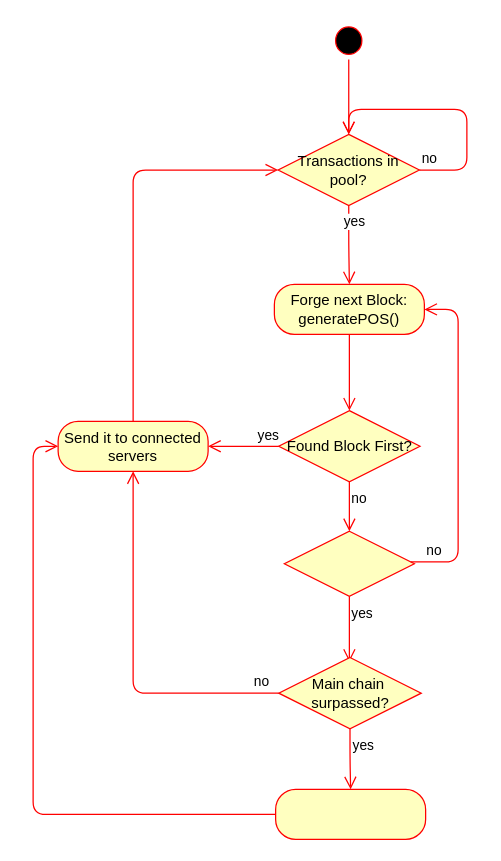
Image size: 501x861. Some labels were removed from this diagram. The shapes that lost their labels are listed below. From the top down, each one's centre as x and y in pixels, then its label:
the point at 348,563: Received Block is valid?
the point at 350,813: Recover main chain: recuperaCadeiaPrincipal()
